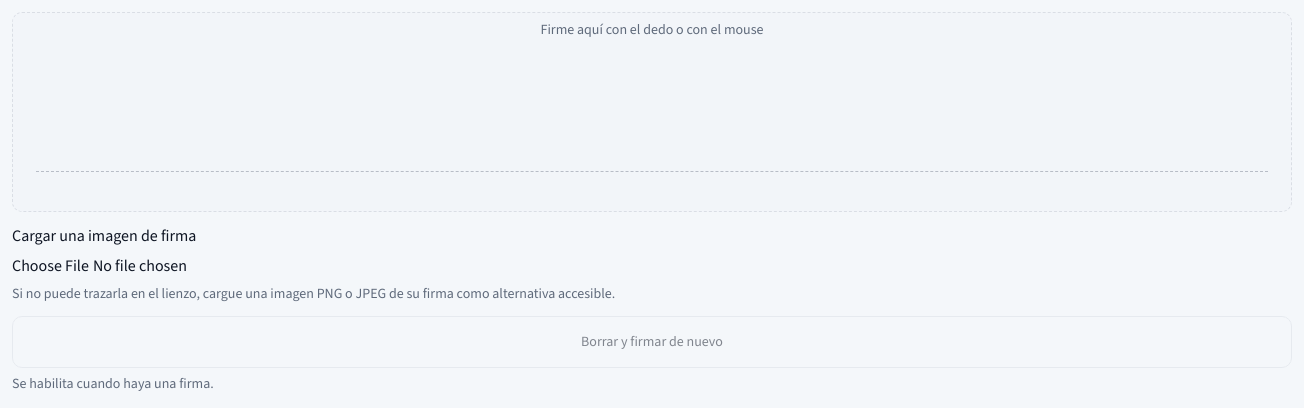
Test: CanvasFirma › clears the signature state and preserves the gesture-prevention declaration
Press the mouse on the drawing named "Área para dibujar la firma": (652, 112) [12,12,1292,212]
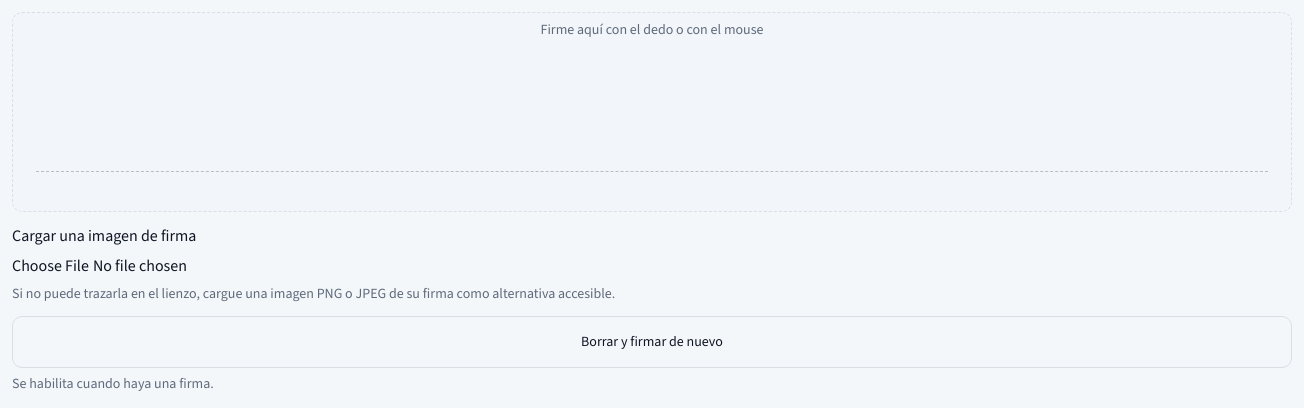
Click the button "Borrar y firmar de nuevo": (652, 342) [12,316,1292,368]
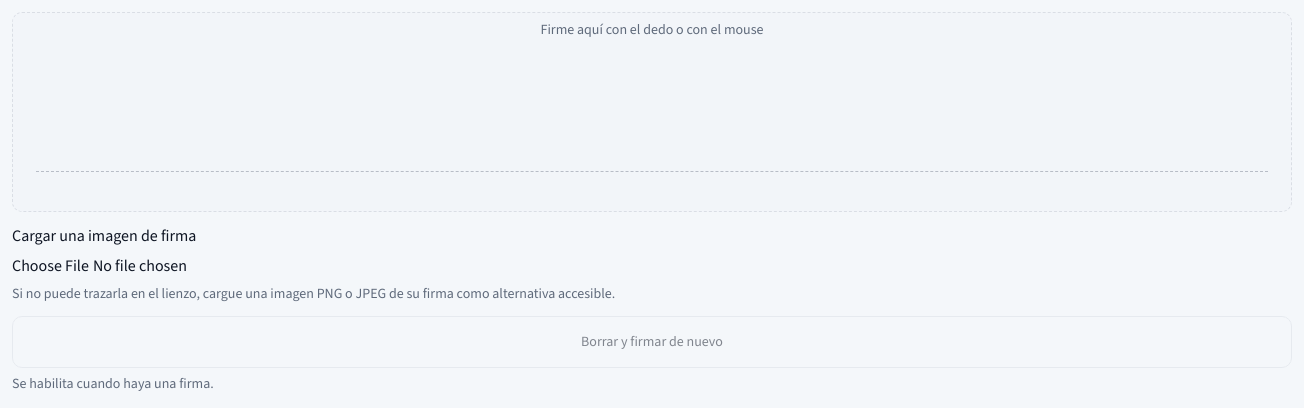
Expected: the button "Borrar y firmar de nuevo" is disabled, [12,316,1292,368]
